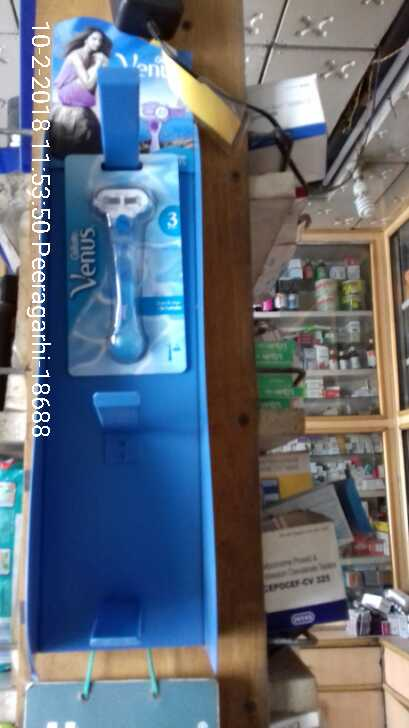venus: (58, 150, 188, 378)
